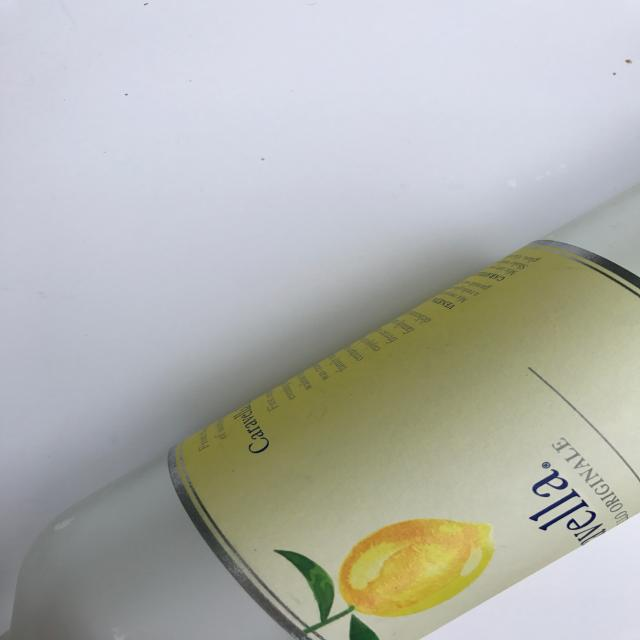glass: (4, 182, 638, 639)
